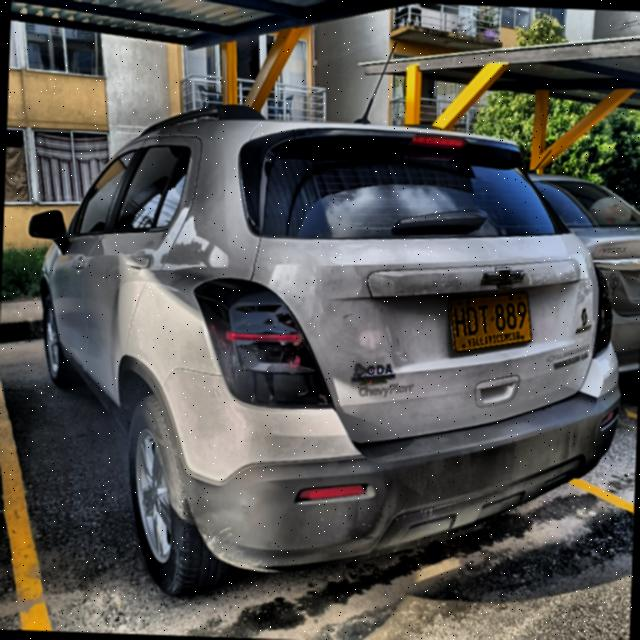8: (493, 303, 506, 331), (504, 301, 517, 329)
9: (515, 300, 527, 328)
D: (465, 306, 479, 336)
H: (452, 306, 468, 336)
T: (476, 304, 490, 334)
